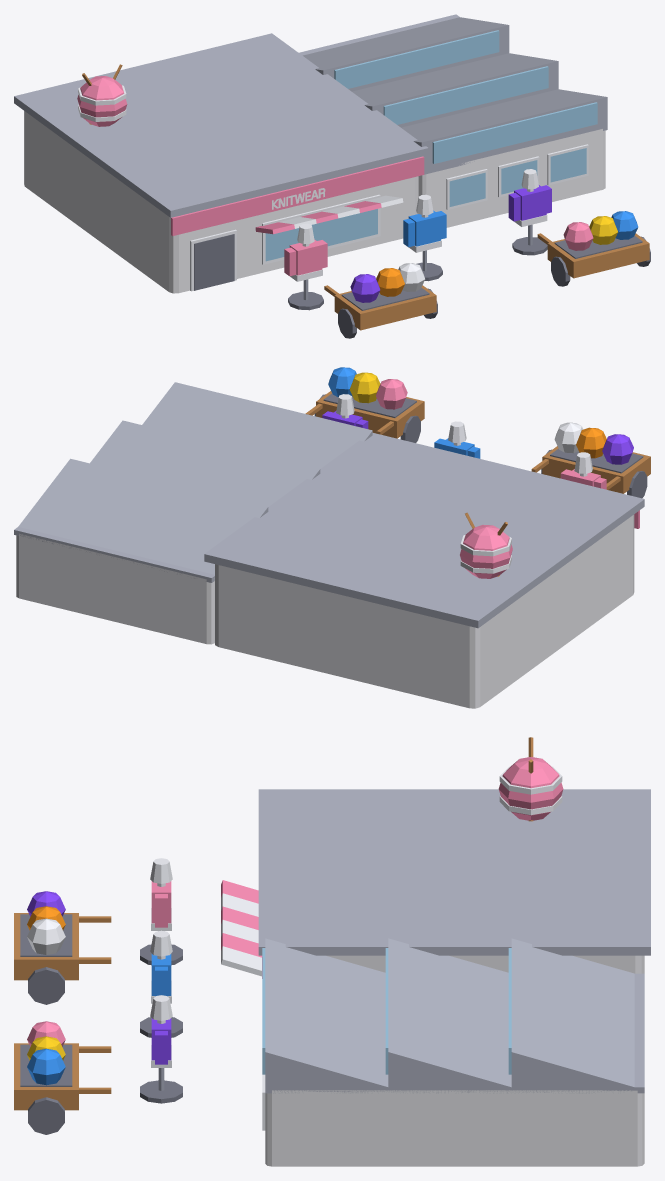
Rendered from knitwear-factory-2x2-t1-tone-a.glb.
3 renders of one model, top to bottom at view 1: azimuth 30°, elevation 25°; view 2: azimuth 150°, elevation 25°; view 3: azimuth 270°, elevation 25°, orthographic. The views are drawn at different scales.
Visible parts, largest first — view 1: knitwear-factory-2x2-t1-tone-a; view 2: knitwear-factory-2x2-t1-tone-a; view 3: knitwear-factory-2x2-t1-tone-a.
Part boxes in pixels (x1=…): knitwear-factory-2x2-t1-tone-a: x1=14, y1=14, x2=650, y2=338; knitwear-factory-2x2-t1-tone-a: x1=14, y1=367, x2=650, y2=708; knitwear-factory-2x2-t1-tone-a: x1=14, y1=737, x2=650, y2=1166.
Size of the model in its own units: 1.96 by 0.5944 by 1.97.
1 material, 1 textured.
